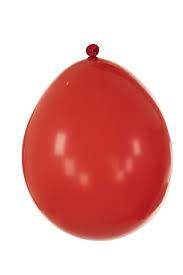red: (20, 43, 170, 237)
